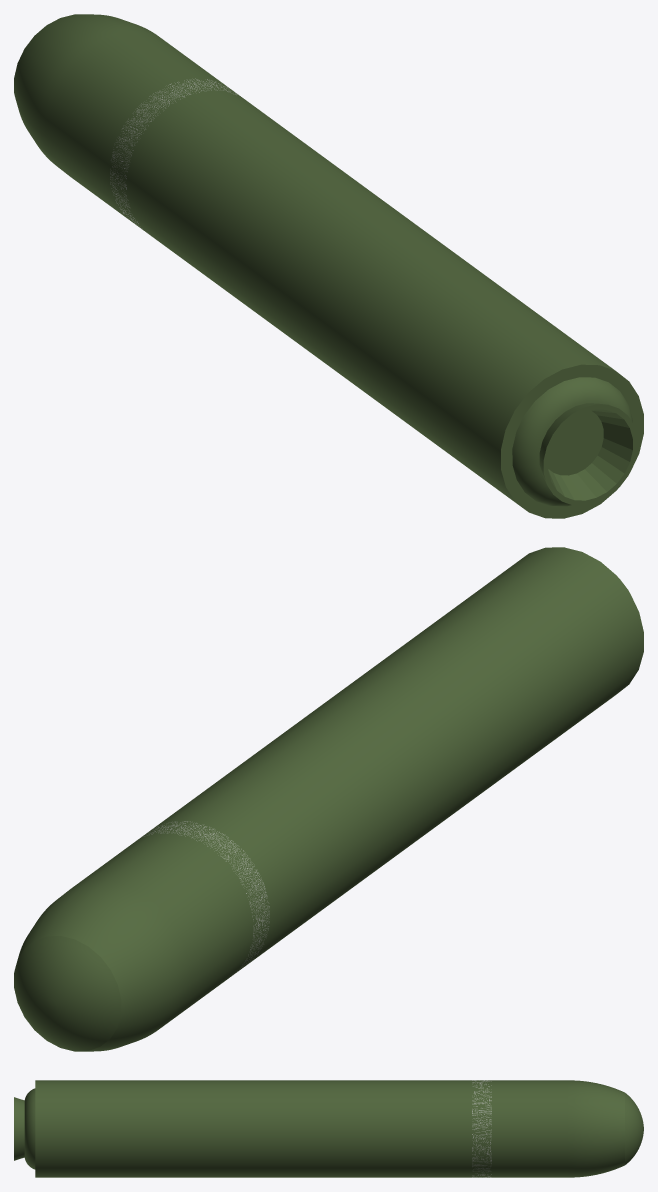
3 views of the same model, one above another, from view 1: azimuth 30°, elevation 25°; view 2: azimuth 150°, elevation 25°; view 3: azimuth 270°, elevation 25° (orthographic). The views are drawn at different scales.
Visible parts, largest first — view 1: mesh1_mesh1-geometry; view 2: mesh1_mesh1-geometry; view 3: mesh1_mesh1-geometry.
Part boxes in pixels (x1=…): mesh1_mesh1-geometry: x1=14, y1=14, x2=643, y2=518; mesh1_mesh1-geometry: x1=14, y1=547, x2=643, y2=1051; mesh1_mesh1-geometry: x1=14, y1=1080, x2=643, y2=1177.
Size of the model in its own units: 0.1498 by 0.1498 by 0.9773.
